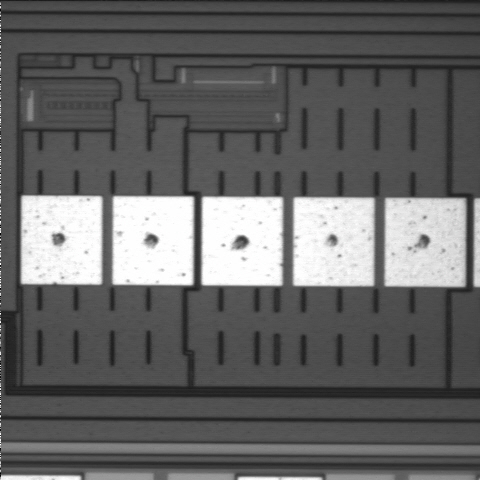pad: (112, 196, 194, 285), (21, 196, 102, 285), (202, 197, 283, 286), (293, 197, 374, 286), (385, 198, 465, 287)
